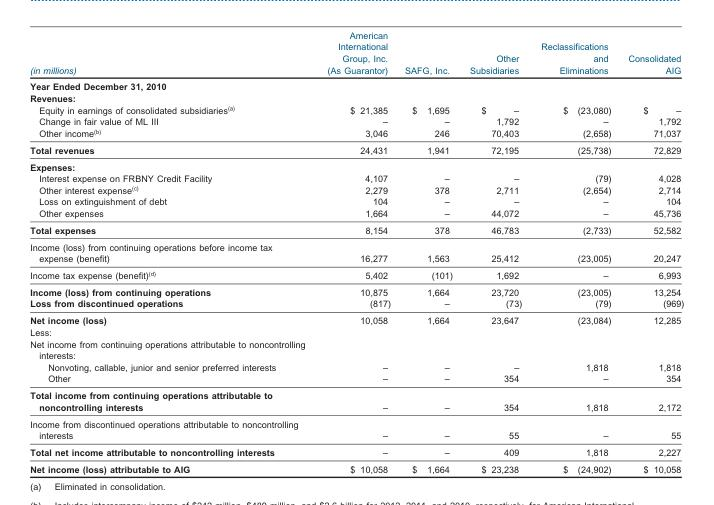table: (29, 29, 683, 473)
table column: (29, 29, 312, 473), (530, 29, 619, 473), (312, 29, 397, 473), (460, 29, 530, 473), (619, 29, 683, 473), (397, 29, 460, 473)
table column header: (29, 29, 683, 77)
table projected row header: (29, 337, 683, 360), (29, 157, 683, 172), (29, 77, 683, 91), (29, 91, 683, 103), (29, 325, 683, 337)
table row: (29, 29, 683, 77), (29, 386, 683, 415), (29, 238, 683, 266), (29, 415, 683, 443), (29, 337, 683, 360), (29, 221, 683, 238), (29, 266, 683, 283), (29, 443, 683, 460), (29, 141, 683, 157), (29, 126, 683, 141), (29, 157, 683, 172), (29, 206, 683, 221), (29, 77, 683, 91), (29, 283, 683, 297), (29, 297, 683, 311), (29, 311, 683, 325), (29, 372, 683, 386), (29, 460, 683, 473), (29, 91, 683, 103), (29, 103, 683, 115), (29, 183, 683, 195), (29, 325, 683, 337), (29, 360, 683, 372), (29, 115, 683, 126), (29, 172, 683, 183), (29, 195, 683, 206)
